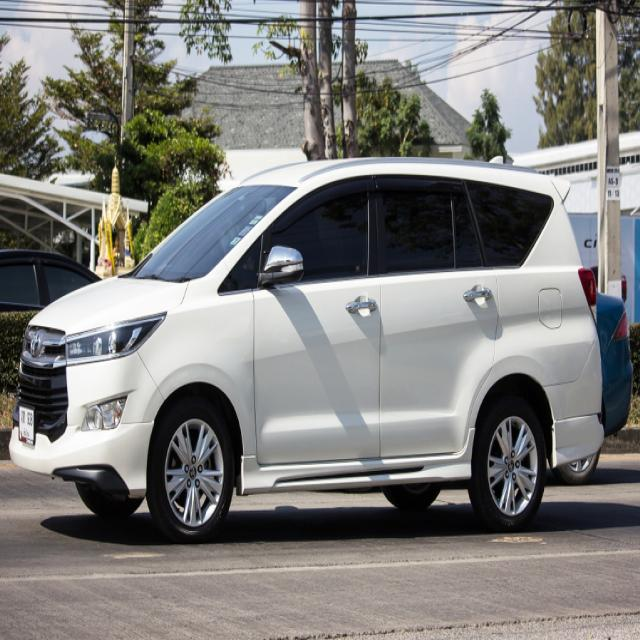light_vehicle: (9, 154, 627, 542)
